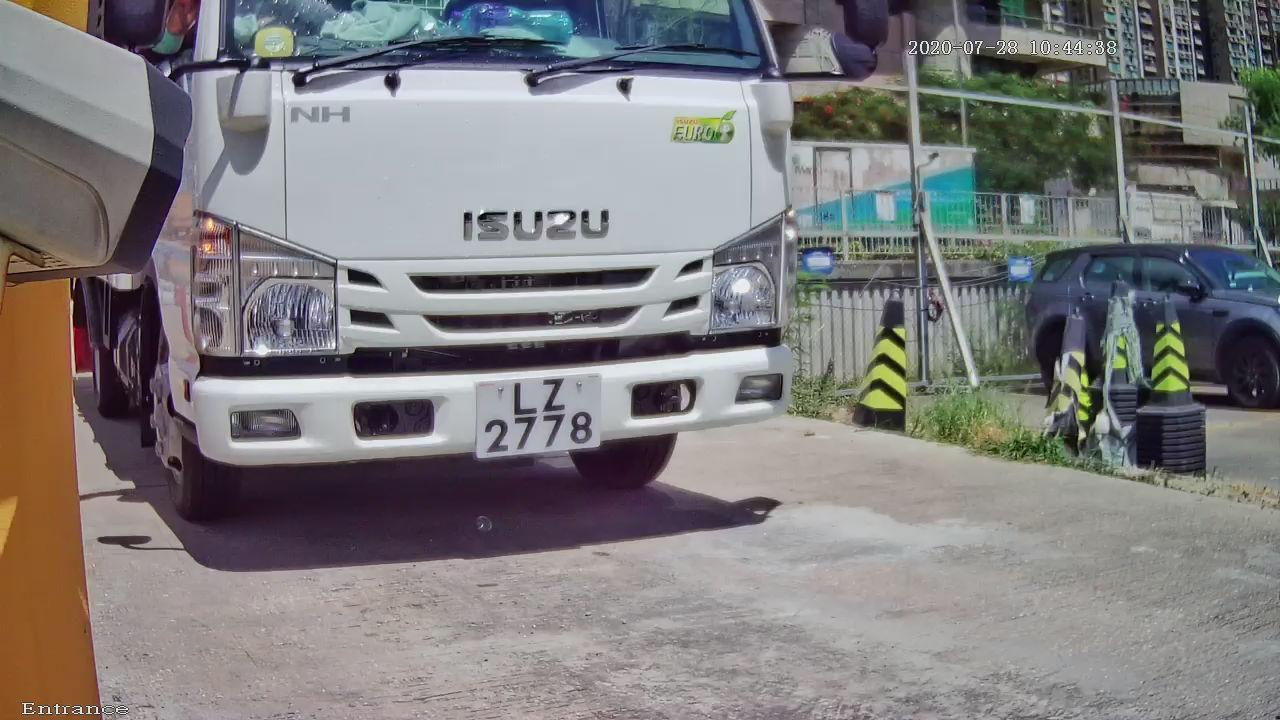truck_large: (6, 23, 961, 573)
